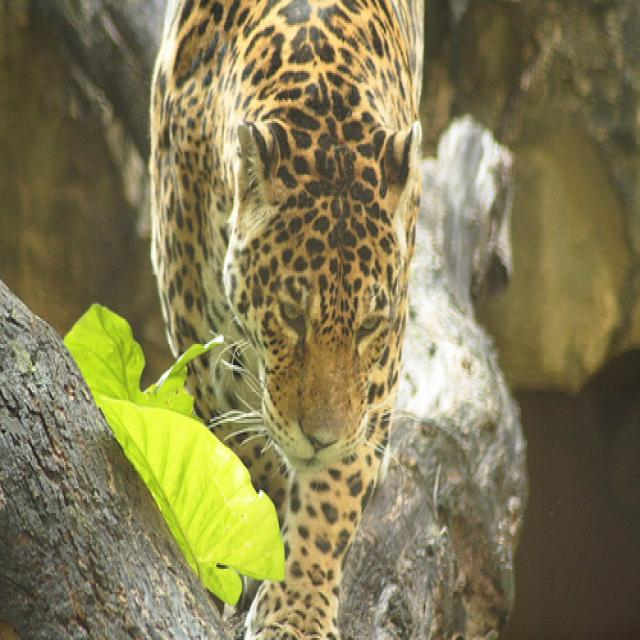Leopard: (145, 0, 425, 636)
